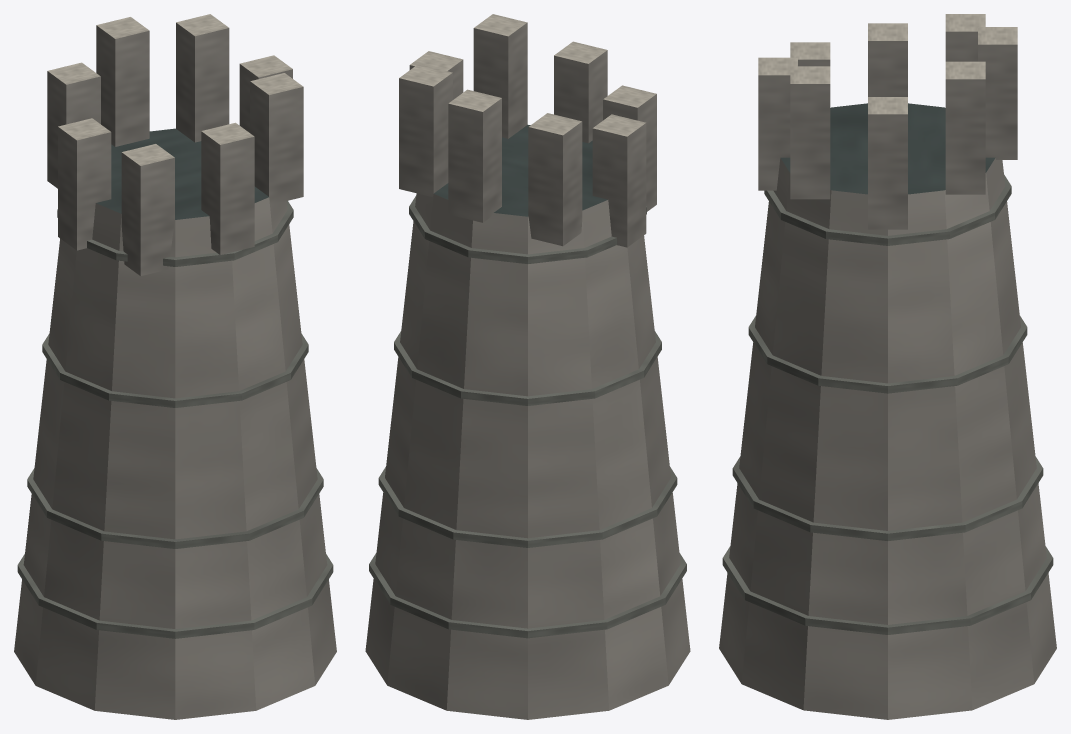
The model's file is tower_stone_ruined.fbx.
3 views of the same model, side by side, from view 1: azimuth 30°, elevation 25°; view 2: azimuth 150°, elevation 25°; view 3: azimuth 270°, elevation 25° (orthographic). The views are drawn at different scales.
Visible parts, largest first — view 1: tower_stone_ruined; view 2: tower_stone_ruined; view 3: tower_stone_ruined.
Part boxes in pixels (x1,y1,x2,y2): tower_stone_ruined: [14, 14, 336, 719]; tower_stone_ruined: [365, 14, 690, 719]; tower_stone_ruined: [719, 14, 1056, 719].
Size of the model in its own units: 600 by 1200 by 600.
1 material, 1 textured.
